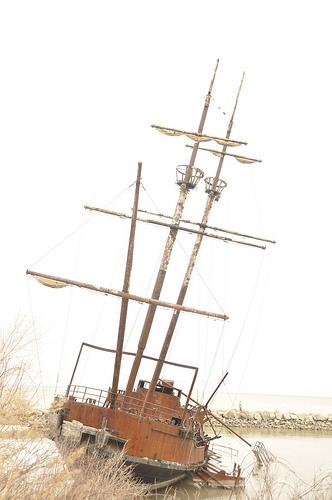Ship: (25, 60, 277, 486)
